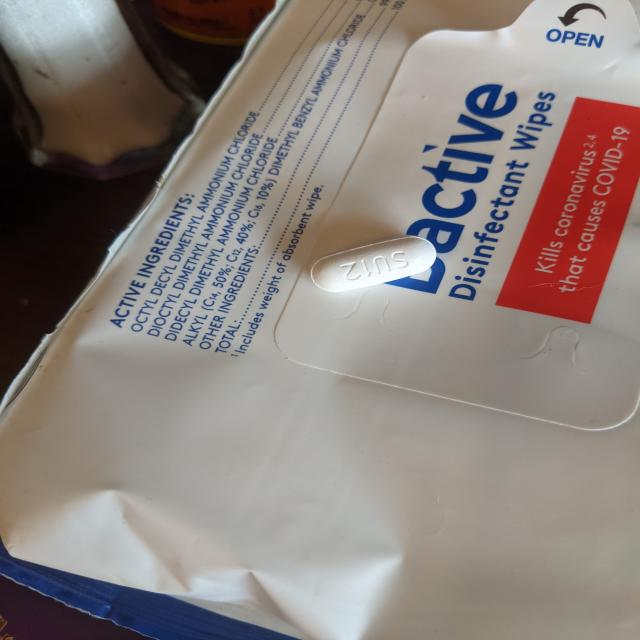non-organic waste: (308, 234, 438, 293)
